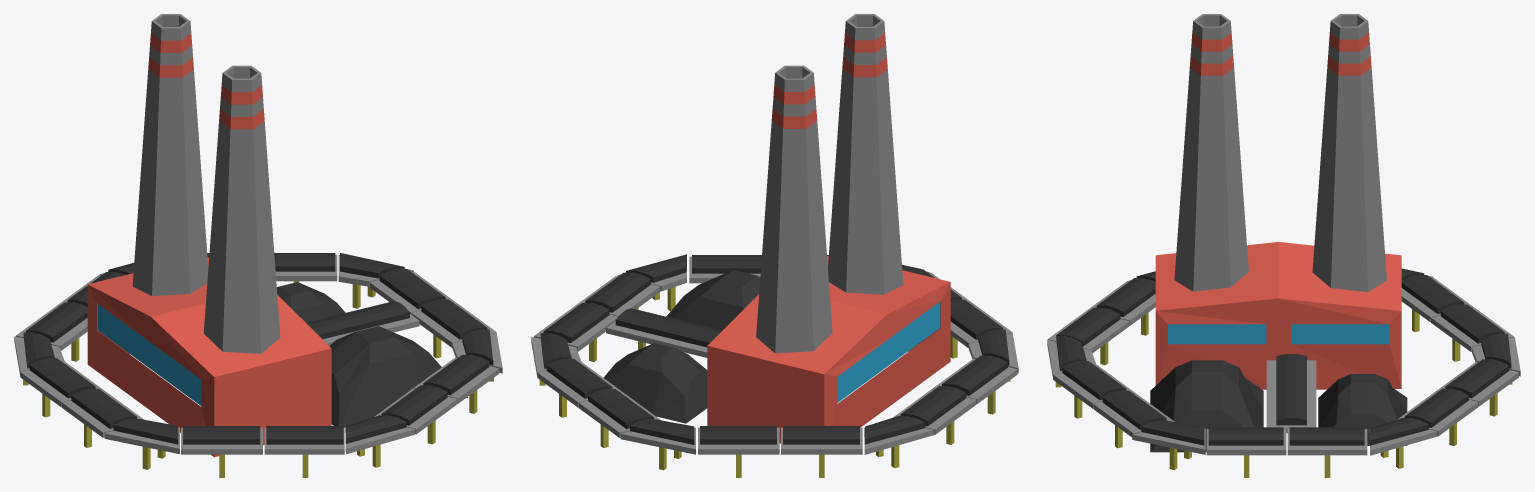
The picture shows the model from 3 angles, left to right: view 1: azimuth 30°, elevation 25°; view 2: azimuth 150°, elevation 25°; view 3: azimuth 270°, elevation 25°; orthographic projection. The views are drawn at different scales.
Visible parts, largest first — view 1: Cube.116, Cylinder.019, Cylinder.009, Cube.111, Cube.068, Cube.115, Cube.113, Cube.063, Cube.103, Cube.043, Cube.095, Cube.039 (+31 smaller); view 2: Cube.116, Cylinder.009, Cylinder.019, Cube.113, Cube.111, Cube.068, Cube.115, Cube.079, Cube.083, Cube.055, Cube.031, Cube.035 (+29 smaller); view 3: Cube.116, Cylinder.009, Cylinder.019, Cube.111, Cube.070, Cube.113, Cube.115, Cube.109, Cube.035, Cube.043, Cube.059, Cube.067 (+30 smaller).
Part boxes in pixels (x1,y1,x2,y2): Cube.116: [87, 257, 331, 457]; Cylinder.019: [203, 121, 280, 353]; Cylinder.009: [132, 69, 208, 295]; Cube.111: [329, 326, 467, 427]; Cube.068: [97, 304, 201, 405]; Cube.115: [306, 301, 409, 339]; Cube.113: [276, 282, 345, 322]; Cube.063: [183, 426, 260, 444]; Cube.103: [266, 426, 343, 444]; Cube.043: [379, 268, 445, 309]; Cube.095: [423, 354, 489, 395]; Cube.039: [29, 358, 95, 398]; Cube.116: [707, 256, 950, 443]; Cylinder.009: [756, 121, 832, 353]; Cylinder.019: [828, 69, 903, 294]; Cube.113: [603, 343, 707, 423]; Cube.111: [666, 270, 760, 330]; Cube.068: [837, 301, 940, 402]; Cube.115: [615, 308, 722, 347]; Cube.079: [700, 426, 776, 444]; Cube.083: [783, 426, 859, 444]; Cube.055: [546, 358, 612, 398]; Cube.031: [942, 355, 1007, 395]; Cube.035: [585, 272, 650, 312]; Cube.116: [1155, 242, 1401, 389]; Cylinder.009: [1312, 68, 1386, 292]; Cylinder.019: [1174, 68, 1248, 291]; Cube.111: [1150, 360, 1263, 452]; Cube.070: [1167, 324, 1389, 344]; Cube.113: [1318, 374, 1407, 445]; Cube.115: [1276, 354, 1306, 425]; Cube.109: [1266, 360, 1316, 433]; Cube.035: [1208, 427, 1283, 445]; Cube.043: [1289, 427, 1364, 445]; Cube.059: [1445, 359, 1509, 398]; Cube.067: [1062, 361, 1126, 399].
Size of the model in its own units: 18.34 by 15.33 by 19.38.
